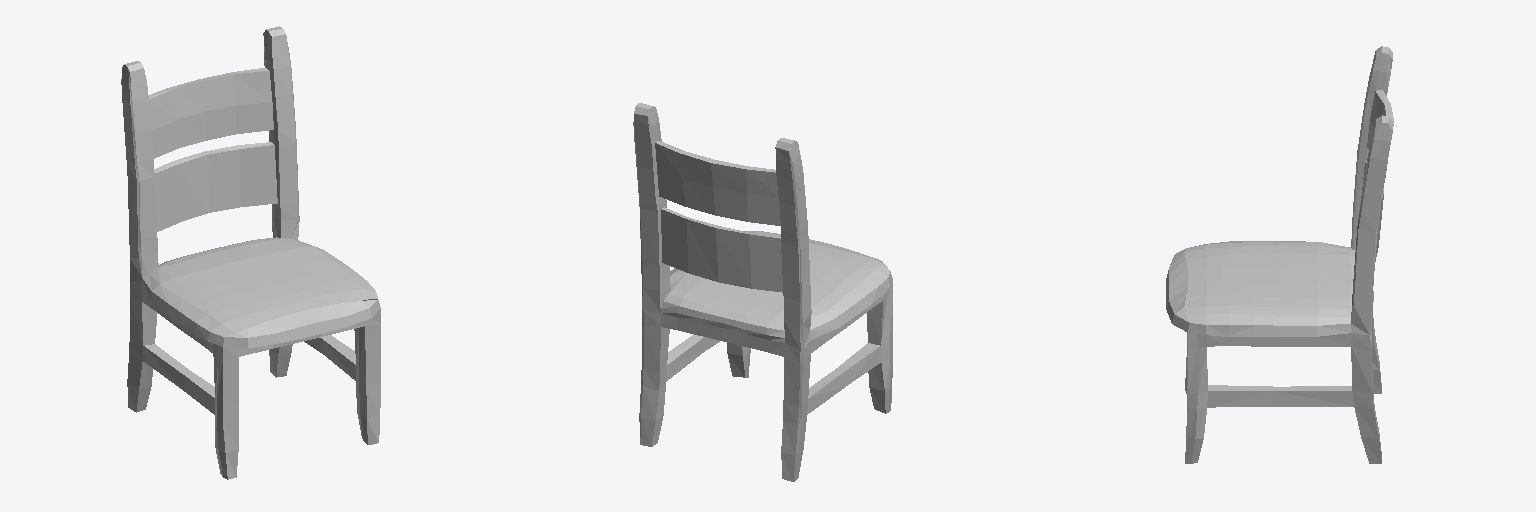
The model's file is chair_LP_UV.obj.
3 renders of one model, left to right at view 1: azimuth 30°, elevation 25°; view 2: azimuth 150°, elevation 25°; view 3: azimuth 270°, elevation 25°, orthographic.
Visible parts, largest first — view 1: RetopoGroup1; view 2: RetopoGroup1; view 3: RetopoGroup1.
Boxes of the visible parts, box(x1,y1,x2,y2) form: RetopoGroup1: box(121, 26, 380, 479); RetopoGroup1: box(633, 103, 892, 481); RetopoGroup1: box(1166, 46, 1393, 463).
Bounding box in the file's own units: 11.3 × 20.81 × 12.56.